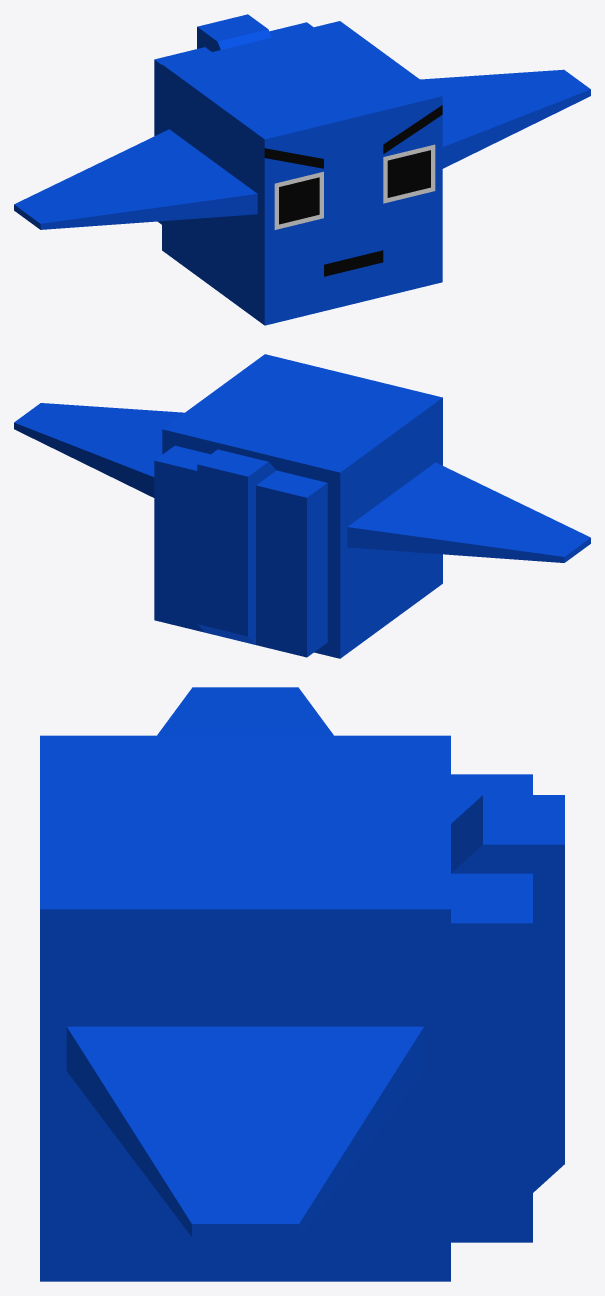
The model's file is flyingenemy.fbx.
The picture shows the model from 3 angles, top to bottom: view 1: azimuth 30°, elevation 25°; view 2: azimuth 150°, elevation 25°; view 3: azimuth 270°, elevation 25°; orthographic projection. The views are drawn at different scales.
Visible parts, largest first — view 1: Cube.006; view 2: Cube.006; view 3: Cube.006.
Boxes of the visible parts, bbox=[...] form: Cube.006: bbox=[14, 14, 590, 325]; Cube.006: bbox=[14, 354, 590, 658]; Cube.006: bbox=[40, 687, 564, 1281].
Bounding box in the file's own units: 443 × 144 × 183.
